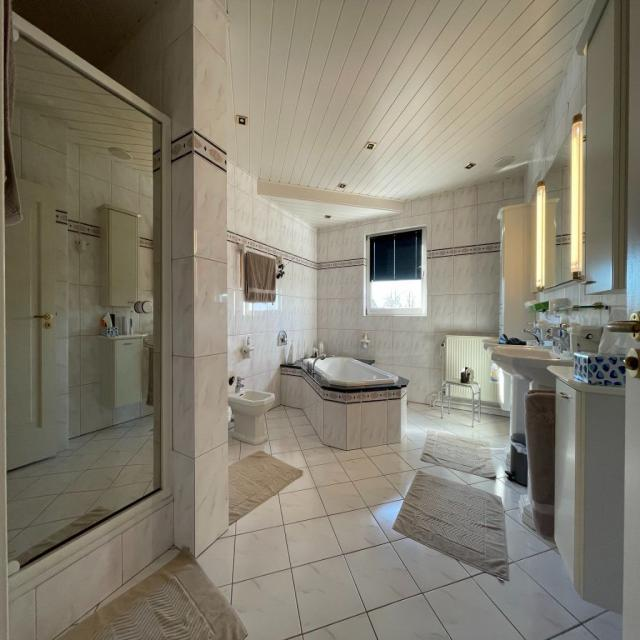bath: (304, 355, 399, 413)
douche: (0, 7, 173, 640)
toilet: (228, 374, 274, 446)
wastafel: (482, 321, 573, 388)
